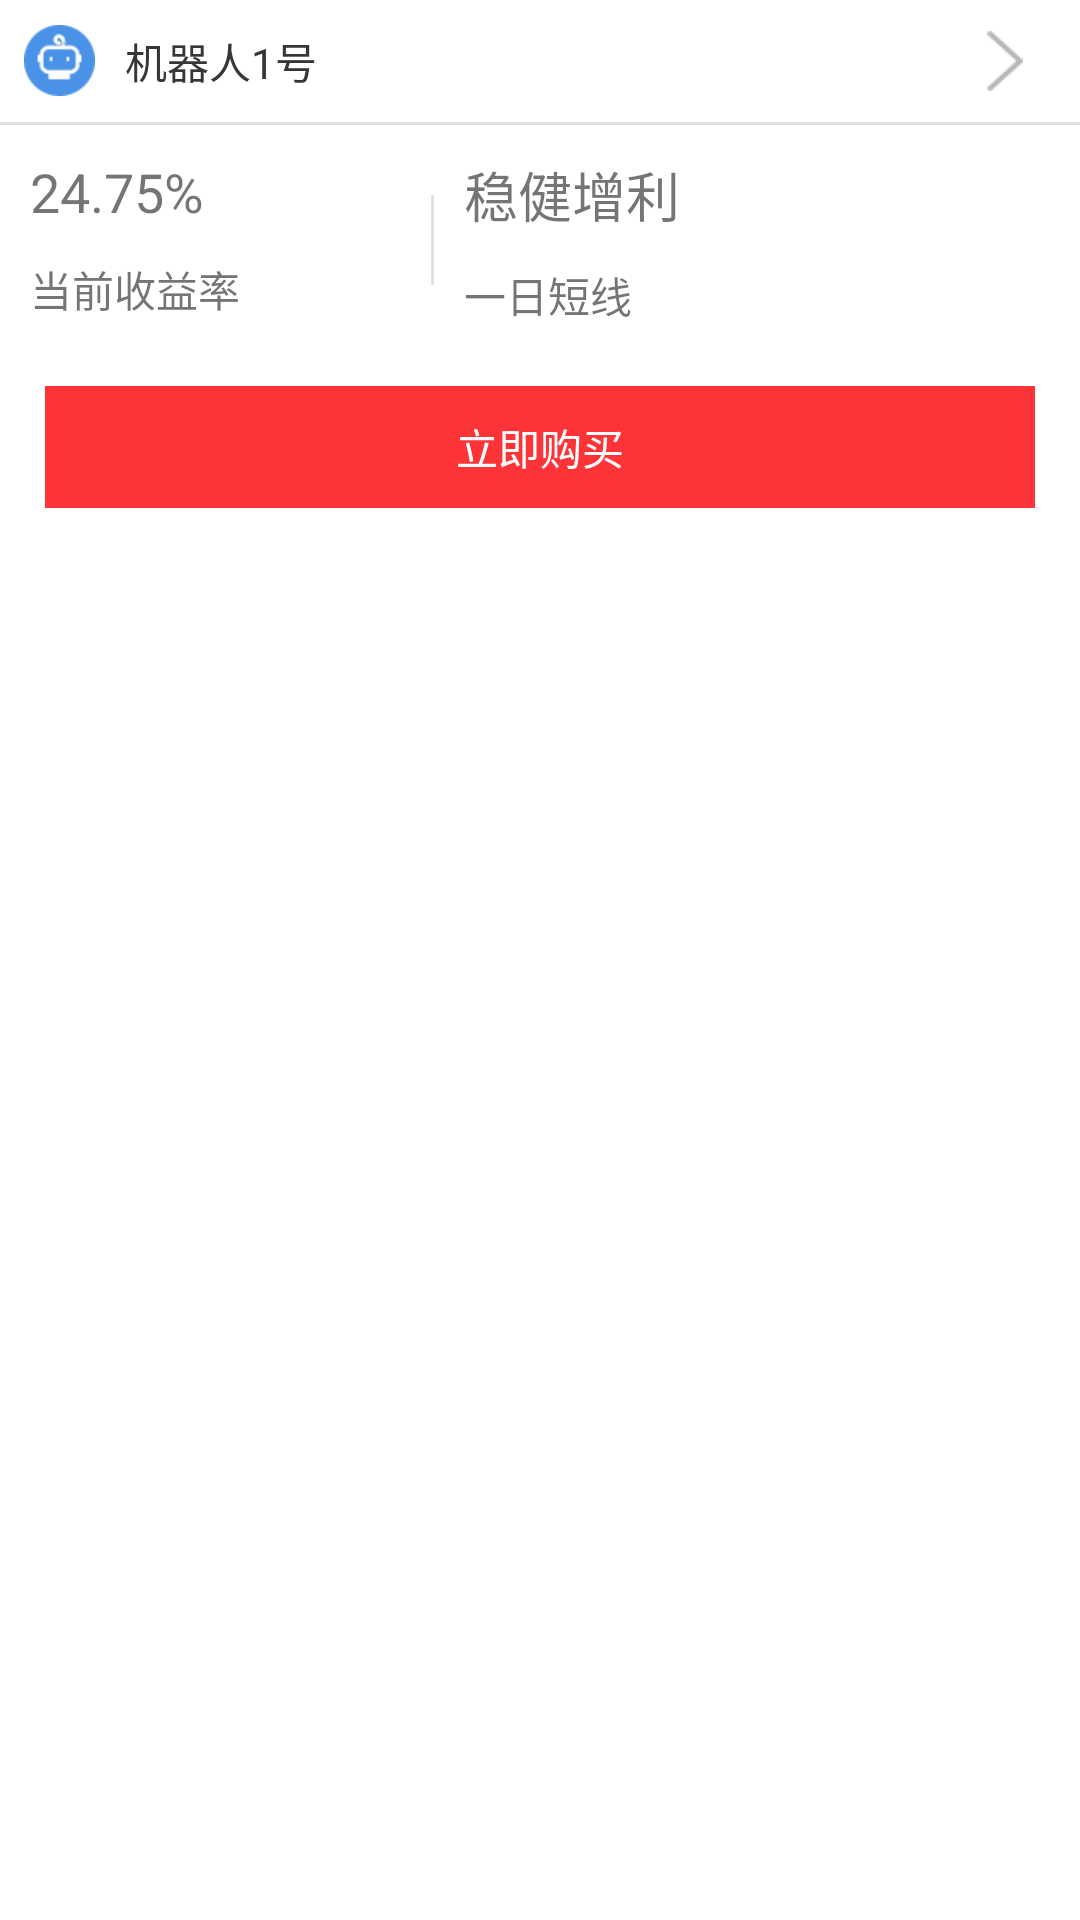

Locate icon controls on the screen. Image size 1080 x 1920, boxes as (x1, y1, x2, y2).
right: (987, 31, 1023, 91)
